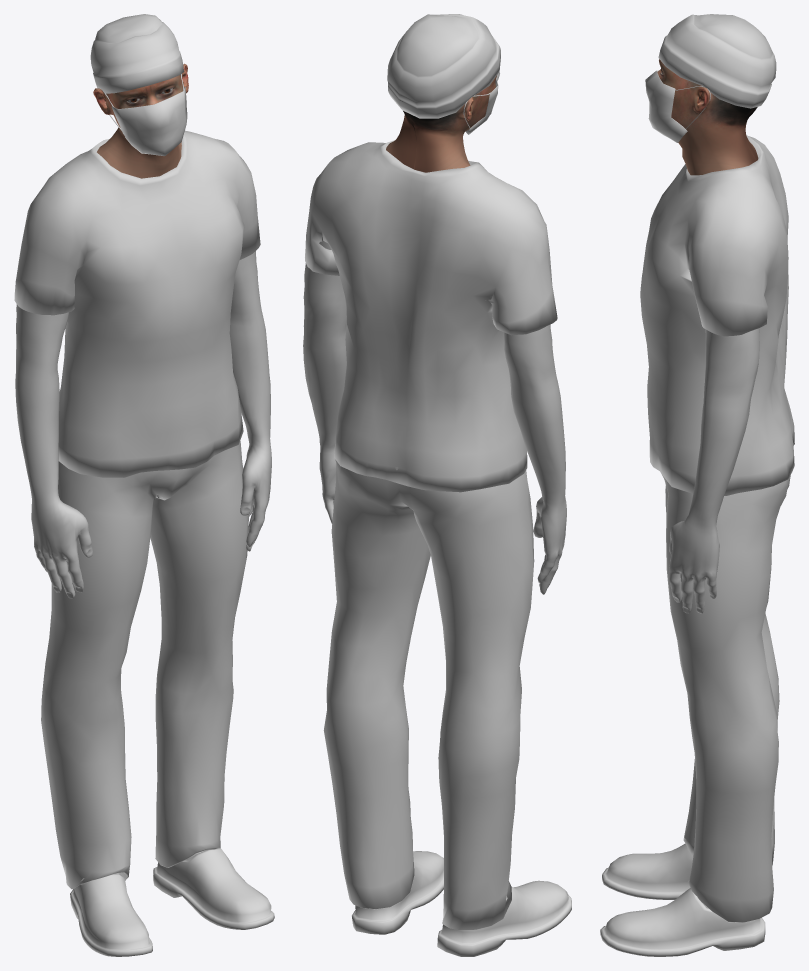
File: pose_3.fbx
The picture shows the model from 3 angles, left to right: view 1: azimuth 30°, elevation 25°; view 2: azimuth 150°, elevation 25°; view 3: azimuth 270°, elevation 25°; orthographic projection. The views are drawn at different scales.
Visible parts, largest first — view 1: clothes.002, body.003, hat.003, head_1.003, mask.003; view 2: clothes.002, body.003, hat.003, head_1.003; view 3: clothes.002, body.003, hat.003, head_1.003, mask.003.
Boxes of the visible parts, box(x1,y1,x2,y2) form: clothes.002: box(14, 130, 274, 956); body.003: box(15, 251, 271, 859); hat.003: box(90, 14, 184, 93); head_1.003: box(93, 63, 188, 178); mask.003: box(103, 74, 187, 155); clothes.002: box(305, 140, 571, 956); body.003: box(303, 240, 566, 594); hat.003: box(387, 14, 500, 118); head_1.003: box(386, 75, 496, 172); clothes.002: box(600, 134, 794, 956); body.003: box(669, 328, 759, 908); hat.003: box(658, 14, 776, 108); head_1.003: box(657, 59, 758, 175); mask.003: box(645, 70, 710, 142).
Bounding box in the file's own units: 0.4502 × 1.56 × 0.307.
